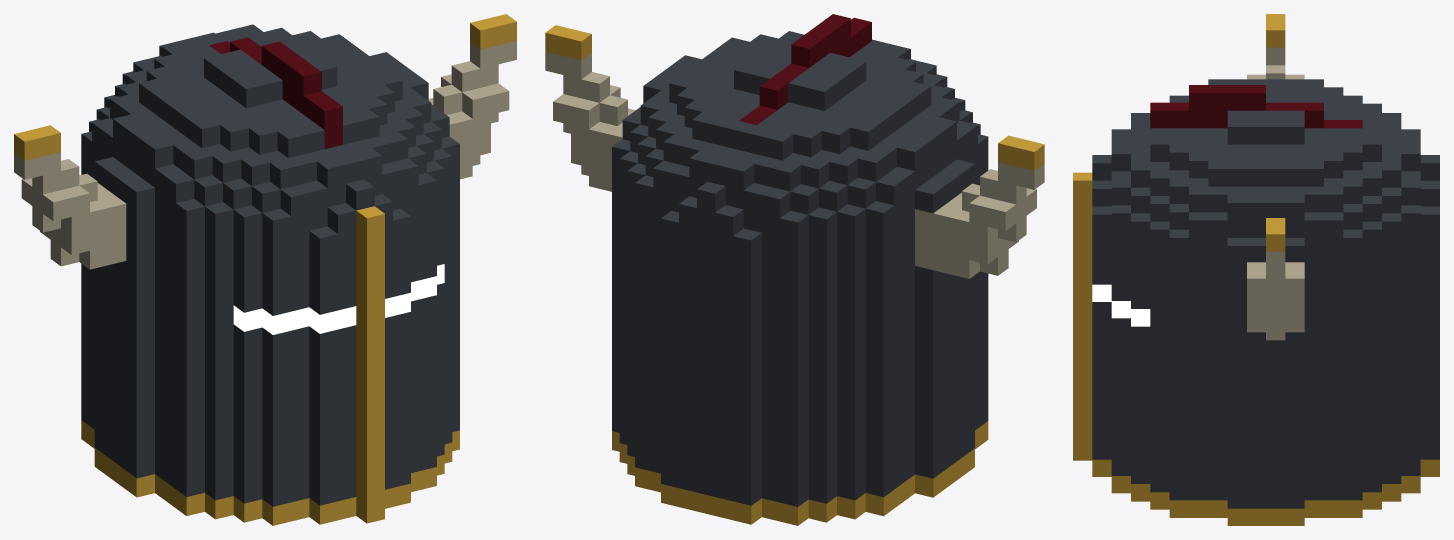
The model's file is great_helm_of_the_vale_lod1.glb.
3 views of the same model, side by side, from view 1: azimuth 30°, elevation 25°; view 2: azimuth 150°, elevation 25°; view 3: azimuth 270°, elevation 25° (orthographic). The views are drawn at different scales.
Visible parts, largest first — view 1: great_helm_of_the_vale_lod1; view 2: great_helm_of_the_vale_lod1; view 3: great_helm_of_the_vale_lod1.
Boxes of the visible parts, <box> form: great_helm_of_the_vale_lod1: <box>14,14,516,525</box>; great_helm_of_the_vale_lod1: <box>545,14,1044,525</box>; great_helm_of_the_vale_lod1: <box>1073,14,1439,525</box>.
Size of the model in its own units: 0.648 by 0.504 by 0.456.
